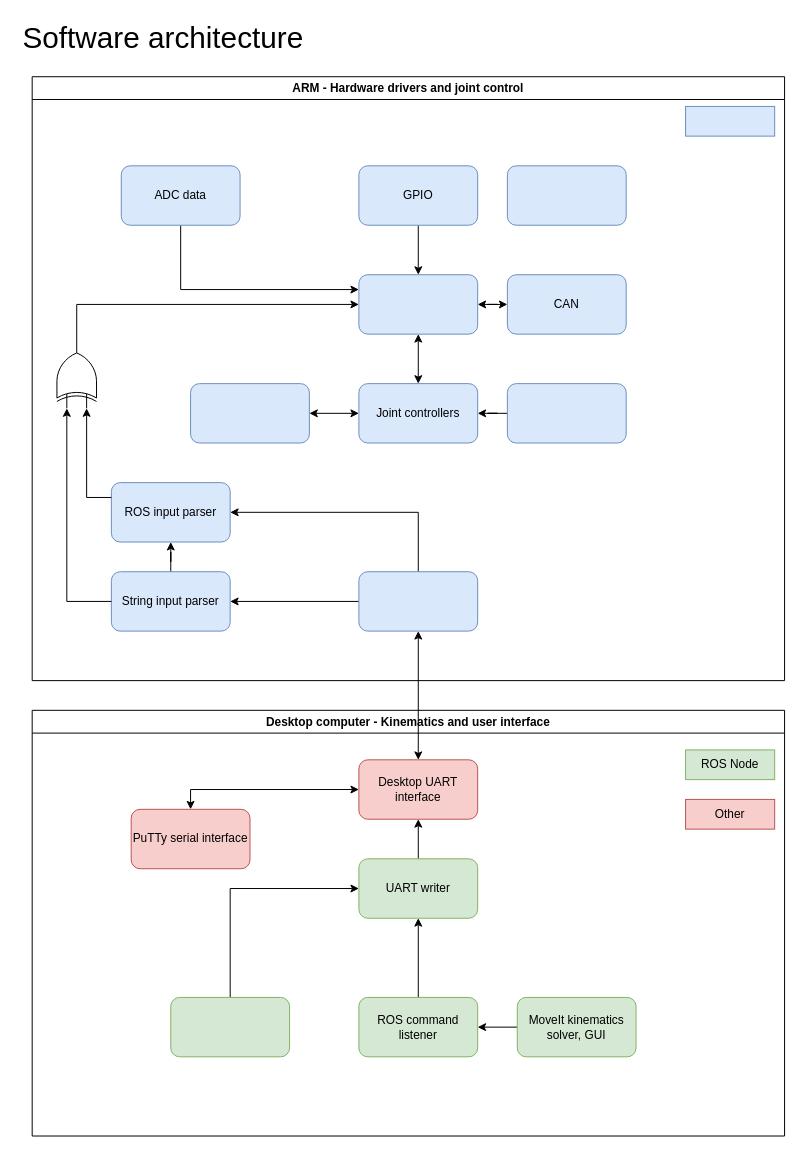
This 802x1153 diagram has some shape labels left out. The centre of each missing label's shape, as x and y in pixels:
"Accelerometer data" belongs at pixel 566 413.
"Main loop state machine" belongs at pixel 418 304.
"Motor drivers" belongs at pixel 249 413.
"Text interface" belongs at pixel 230 1026.
"TTK4900" belongs at pixel 730 120.
"UART" belongs at pixel 418 601.
"unit_config" belongs at pixel 566 195.
